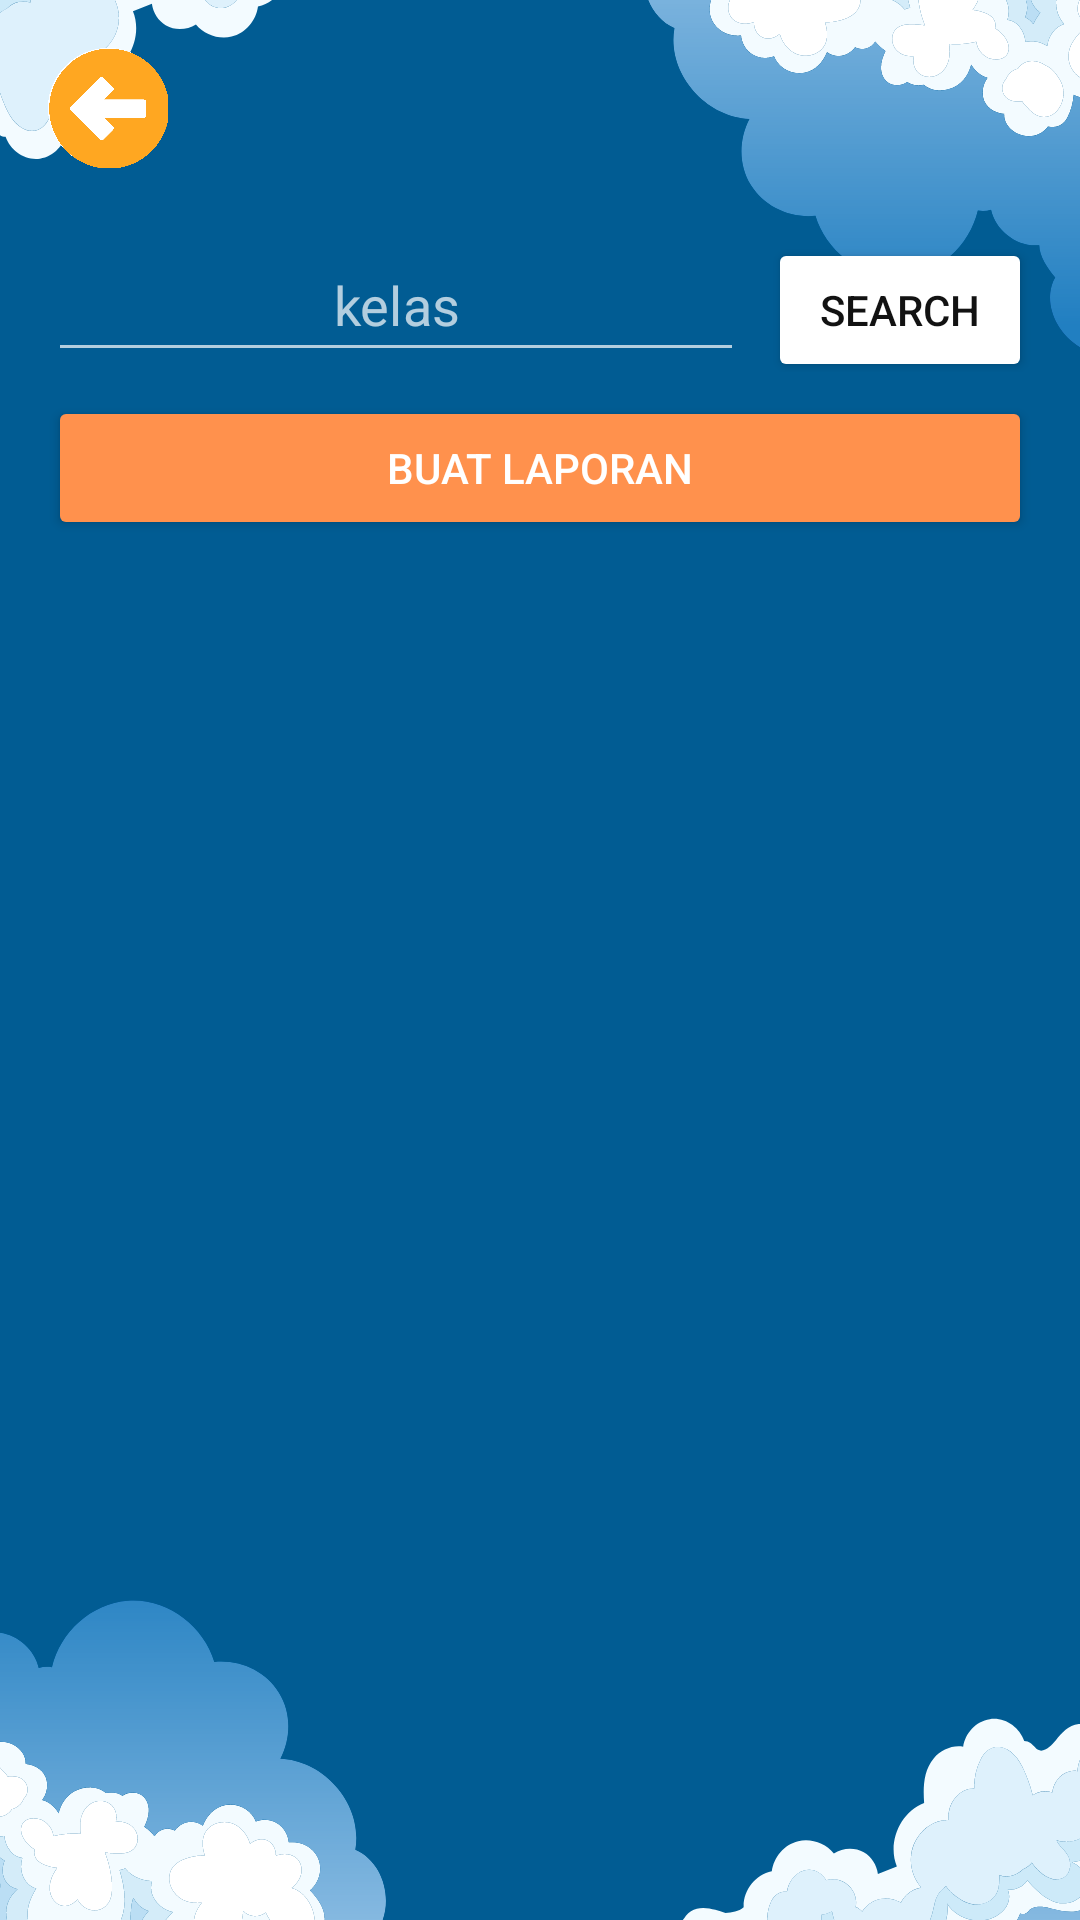

Icon click points for this 1080*1920 phone screenshot, format point (x, y):
back: point (108, 108)
